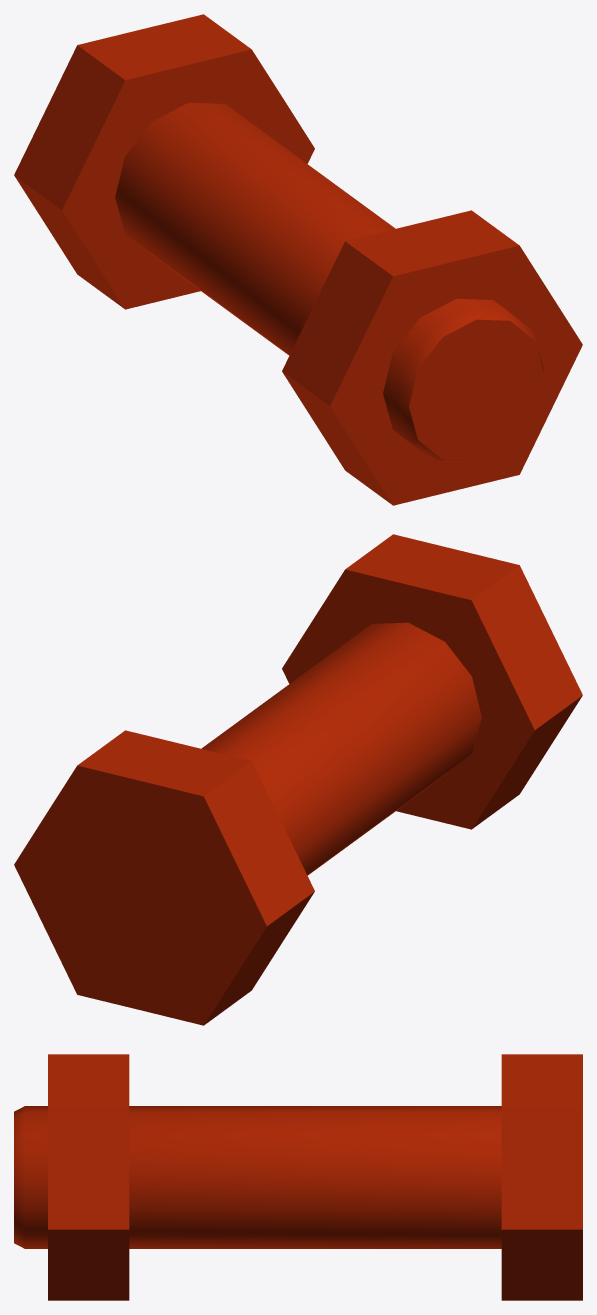
File: Bolt_01.FBX
The picture shows the model from 3 angles, top to bottom: view 1: azimuth 30°, elevation 25°; view 2: azimuth 150°, elevation 25°; view 3: azimuth 270°, elevation 25°; orthographic projection. The views are drawn at different scales.
Visible parts, largest first — view 1: Bolt_up1; view 2: Bolt_up1; view 3: Bolt_up1.
Part boxes in pixels (x1,y1,x2,y2): Bolt_up1: [14, 14, 582, 505]; Bolt_up1: [14, 534, 582, 1025]; Bolt_up1: [14, 1054, 582, 1300].
Bounding box in the file's own units: 2.2 × 1.91 × 5.06.
